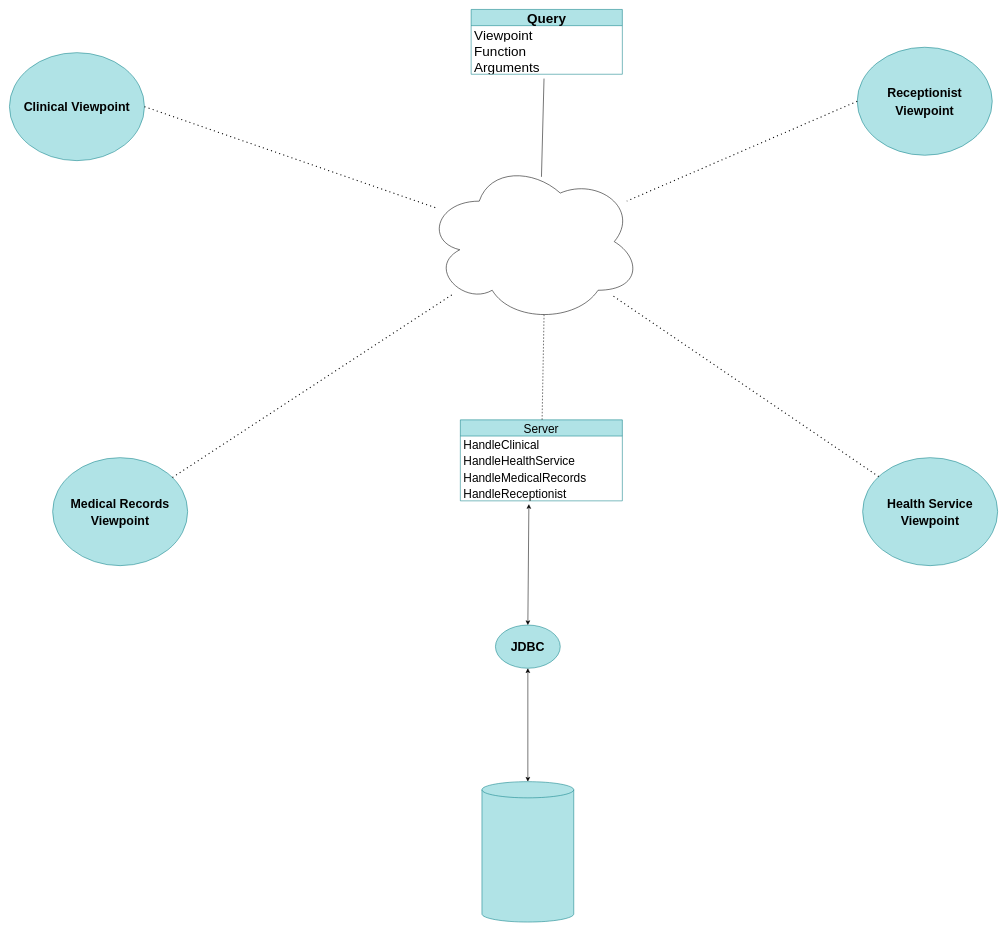
Some shapes in this 1007 by 932 pixel diagram are drawn without their labels. Here are the shapes that lost their labels. From the top down, the centre of each, then its label:
point (533, 241): World Wide Web
point (527, 851): SQL Databse
